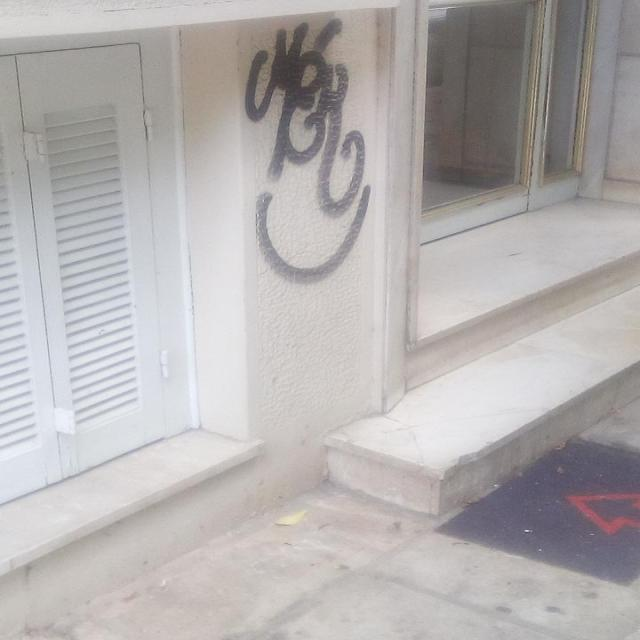nonspitting: (246, 18, 374, 286)
